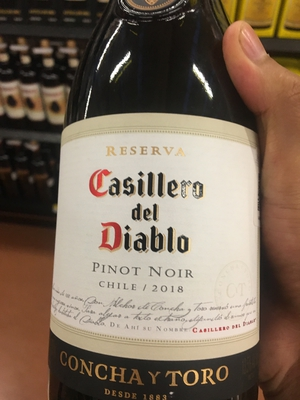casillero del diablo pinot noir: (43, 10, 266, 400)
